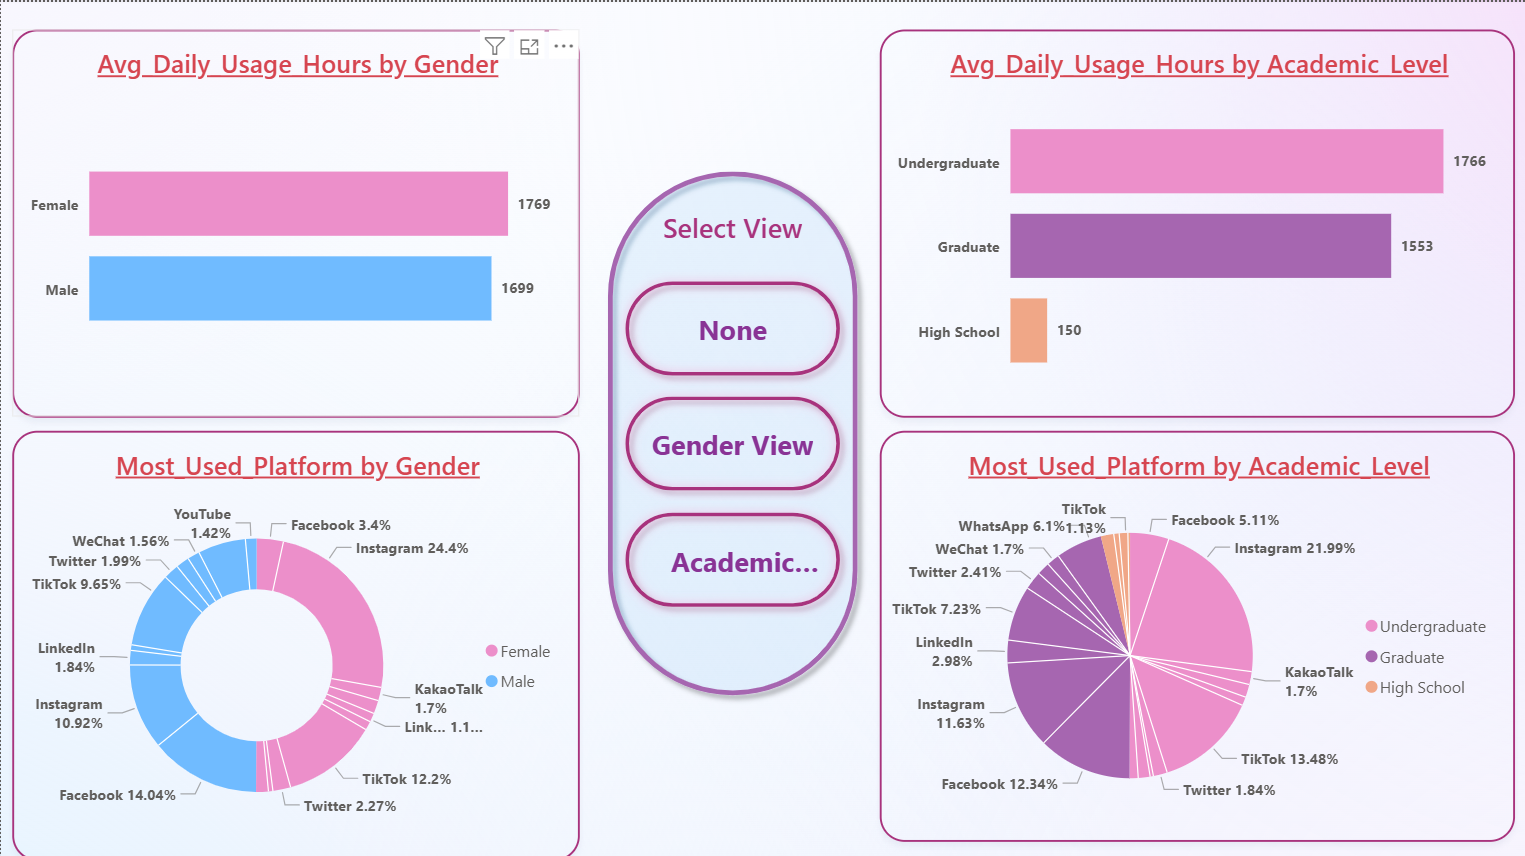

The page's visual inventory and layout, read from the dashboard file:
{"tool":"powerbi","page":{"name":"Bookmark View ","canvas":[1280,720],"ordinal":4},"visuals":[{"type":"barChart","title":"Avg_Daily_Usage_Hours by Gender","fields":{"Y":["Sum(Student Details.Platform Details.Avg_Daily_Usage_Hours)"],"Category":["Student Details.Gender"]},"box":[9,22.6,476,325.6],"z":0},{"type":"donutChart","title":"Most_Used_Platform by Gender","fields":{"Category":["Student Details.Gender"],"Y":["CountNonNull(Student Details.Platform Details.Most_Used_Platform)"],"Series":["Student Details.Platform Details.Most_Used_Platform"]},"box":[9.8,359.5,475.7,360.7],"z":1000},{"type":"barChart","title":"Avg_Daily_Usage_Hours by Academic_Level","fields":{"Category":["Student Details.Academic_Level"],"Y":["Sum(Student Details.Platform Details.Avg_Daily_Usage_Hours)"]},"box":[737.2,22.7,533.2,325.3],"z":2000},{"type":"pieChart","title":"Most_Used_Platform by Academic_Level","fields":{"Y":["CountNonNull(Student Details.Platform Details.Most_Used_Platform)"],"Series":["Student Details.Platform Details.Most_Used_Platform"],"Category":["Student Details.Academic_Level"]},"box":[737.4,359.7,532.6,344.5],"z":3000},{"type":"shape","title":"Select View","box":[500.1,132.9,227.2,457.2],"z":4000},{"type":"actionButton","box":[514.7,322.4,197.8,96.8],"z":5000},{"type":"actionButton","box":[514.7,419.2,197.8,96.8],"z":6000},{"type":"actionButton","box":[514.7,225.5,197.8,96.8],"z":7000}]}

Visuals, with their boxes in screenshot pixels (x1, y1, x2, y2), scaled from the page's 1280x720 canvas onto the 1525x856 screenshot:
"Avg_Daily_Usage_Hours by Gender" barChart: [11,27,578,414]
"Most_Used_Platform by Gender" donutChart: [12,427,578,855]
"Avg_Daily_Usage_Hours by Academic_Level" barChart: [878,27,1514,414]
"Most_Used_Platform by Academic_Level" pieChart: [879,428,1513,837]
"Select View" shape: [596,158,867,702]
actionButton: [613,383,849,498]
actionButton: [613,498,849,613]
actionButton: [613,268,849,383]
